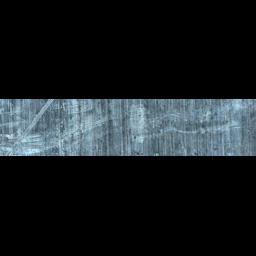d: (1, 99, 57, 153), (129, 107, 243, 133), (58, 99, 116, 139), (126, 105, 153, 146)
